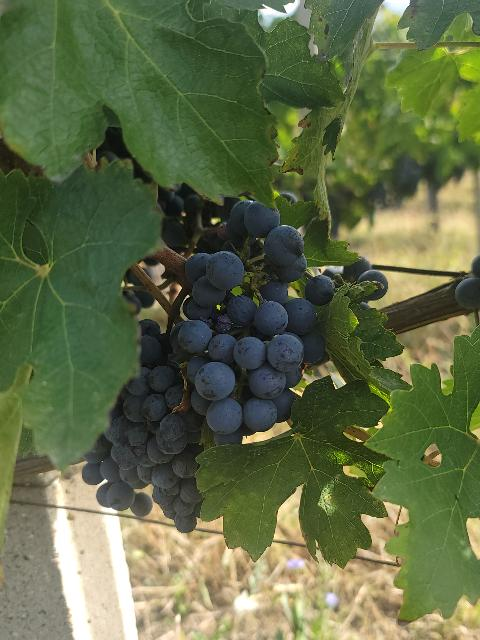grapes: (170, 201, 335, 440), (108, 319, 204, 532)
